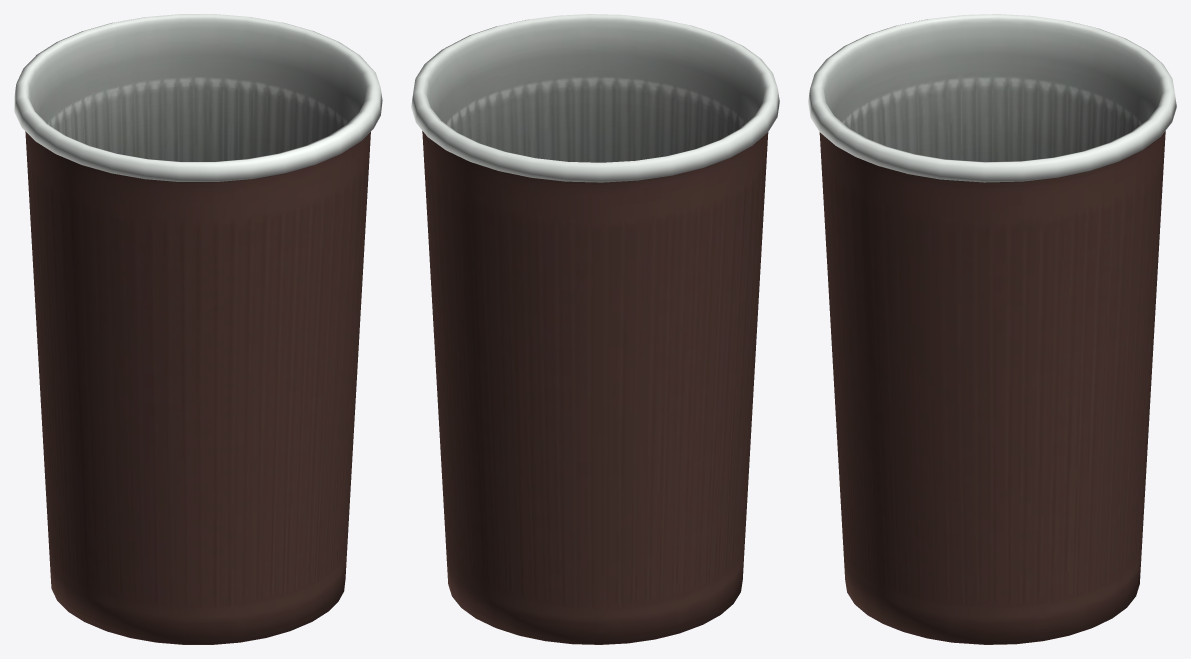
The model's file is coffee-transformed.glb.
3 views of the same model, side by side, from view 1: azimuth 30°, elevation 25°; view 2: azimuth 150°, elevation 25°; view 3: azimuth 270°, elevation 25° (orthographic).
Visible parts, largest first — view 1: Plastic Cup_0; view 2: Plastic Cup_0; view 3: Plastic Cup_0.
Boxes of the visible parts, x1,y1,x2,y2 form: Plastic Cup_0: [14, 14, 382, 644]; Plastic Cup_0: [411, 14, 779, 644]; Plastic Cup_0: [808, 14, 1176, 644].
Bounding box in the file's own units: 1.54 × 2.29 × 1.54.
1 material, 1 textured.
